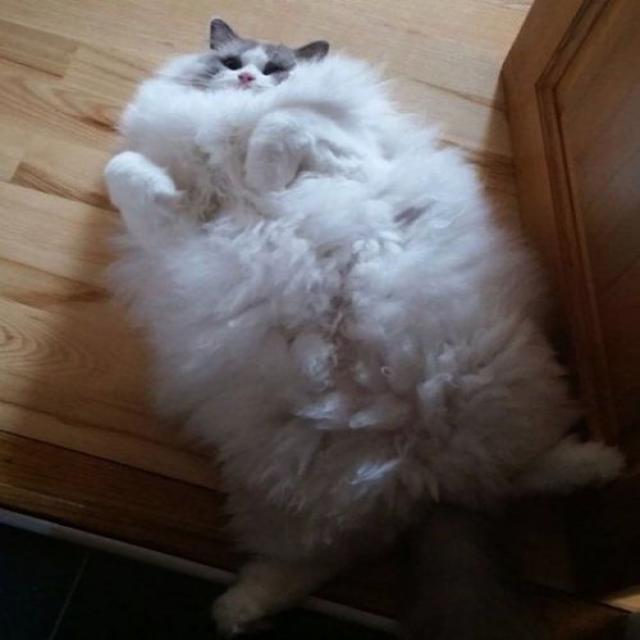da khoe manh: (122, 121, 486, 483)
